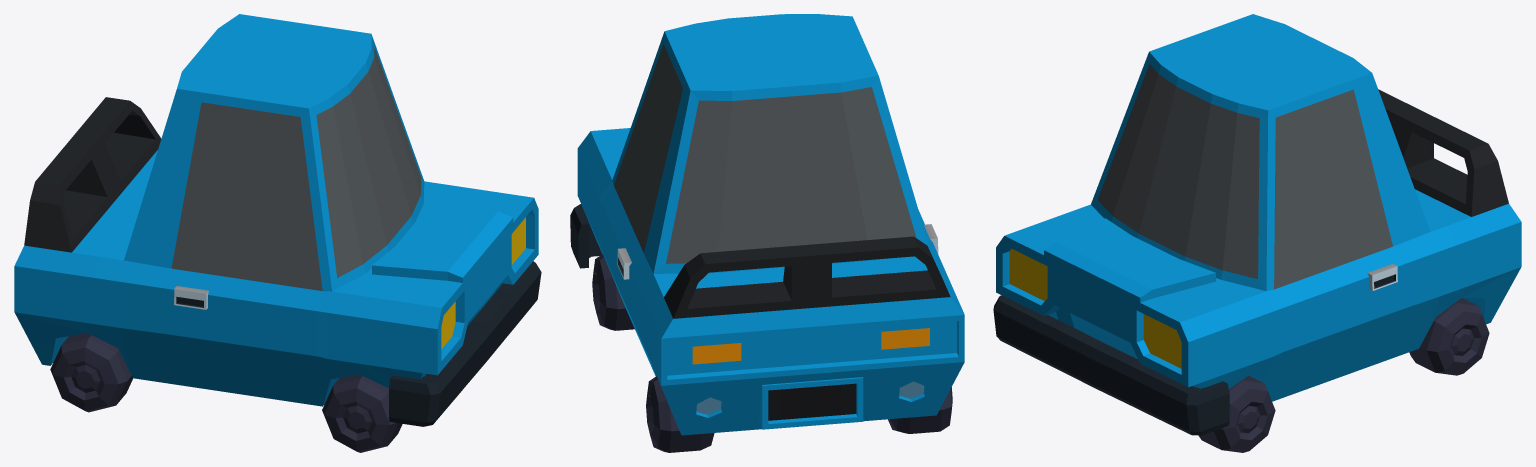
Rendered from ToyObject_103.fbx.
3 views of the same model, side by side, from view 1: azimuth 30°, elevation 25°; view 2: azimuth 150°, elevation 25°; view 3: azimuth 270°, elevation 25° (orthographic). The views are drawn at different scales.
Parts seen in each view (by area): view 1: 1.013; view 2: 1.013; view 3: 1.013.
Boxes of the visible parts, bbox=[...] form: 1.013: bbox=[14, 14, 541, 452]; 1.013: bbox=[570, 14, 964, 452]; 1.013: bbox=[993, 14, 1521, 452].
Bounding box in the file's own units: 0.2173 × 0.1453 × 0.2237.
2 materials, 1 textured.
